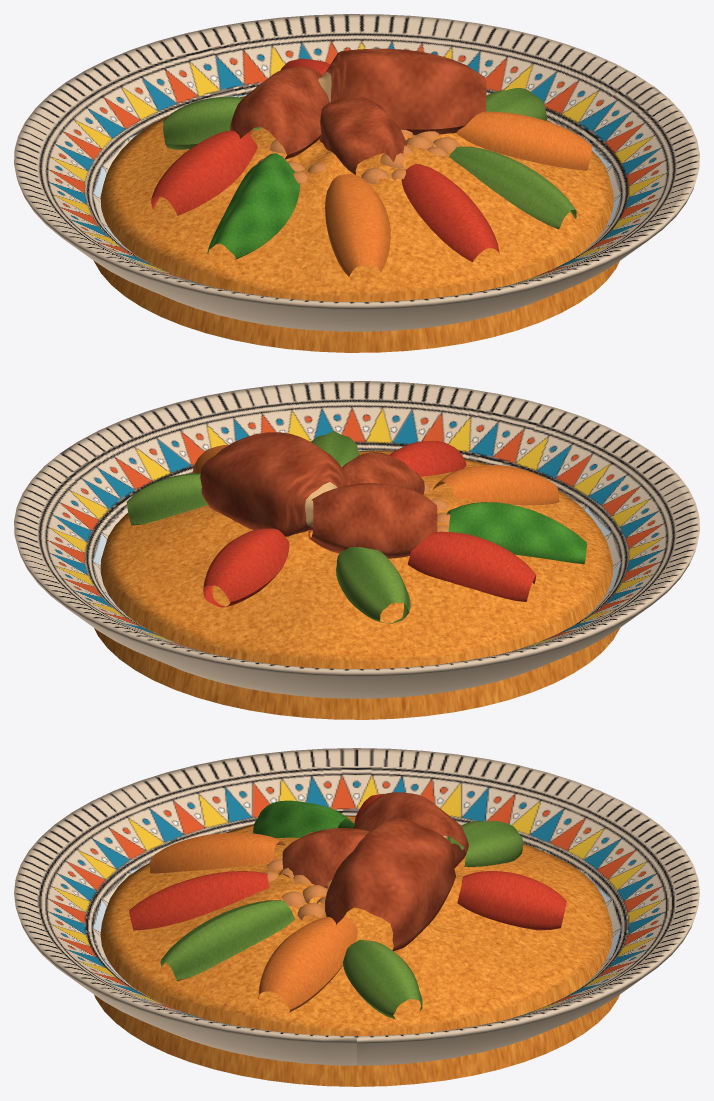
File: Tunisian_Couscous_All_14_Parts_Separated.fbx
The picture shows the model from 3 angles, top to bottom: view 1: azimuth 30°, elevation 25°; view 2: azimuth 150°, elevation 25°; view 3: azimuth 270°, elevation 25°; orthographic projection.
Parts seen in each view (by area): view 1: 00_Plate_Tebsi_Ceramic, 01_Couscous_Semolina_Mound, 02_Meat_Lamb_Shank_Main, 13_Veg_Left_Pumpkin_and_Zucchini, 03_Meat_Braised_Left, 06_Veg_Green_Pepper_Felfel, 07_Veg_Carrot_FrontLeft, 10_Veg_Carrot_Right, 08_Veg_Pumpkin_Red_Front, 04_Meat_Braised_Front, 09_Veg_Zucchini_FrontRight, 05_Chickpeas_Cluster (+1 smaller); view 2: 00_Plate_Tebsi_Ceramic, 01_Couscous_Semolina_Mound, 02_Meat_Lamb_Shank_Main, 13_Veg_Left_Pumpkin_and_Zucchini, 03_Meat_Braised_Left, 06_Veg_Green_Pepper_Felfel, 12_Veg_Carrot_TopRight, 07_Veg_Carrot_FrontLeft, 11_Veg_Zucchini_FarRight, 04_Meat_Braised_Front, 08_Veg_Pumpkin_Red_Front, 09_Veg_Zucchini_FrontRight; view 3: 00_Plate_Tebsi_Ceramic, 01_Couscous_Semolina_Mound, 02_Meat_Lamb_Shank_Main, 10_Veg_Carrot_Right, 09_Veg_Zucchini_FrontRight, 12_Veg_Carrot_TopRight, 08_Veg_Pumpkin_Red_Front, 07_Veg_Carrot_FrontLeft, 11_Veg_Zucchini_FarRight, 04_Meat_Braised_Front, 03_Meat_Braised_Left, 06_Veg_Green_Pepper_Felfel (+2 smaller).
Boxes of the visible parts, x1,y1,x2,y2 form: 00_Plate_Tebsi_Ceramic: (14, 14, 699, 331); 01_Couscous_Semolina_Mound: (93, 96, 619, 352); 02_Meat_Lamb_Shank_Main: (318, 48, 486, 135); 13_Veg_Left_Pumpkin_and_Zucchini: (151, 96, 262, 215); 03_Meat_Braised_Left: (230, 66, 329, 159); 06_Veg_Green_Pepper_Felfel: (207, 153, 300, 259); 07_Veg_Carrot_FrontLeft: (325, 174, 390, 276); 10_Veg_Carrot_Right: (456, 111, 592, 170); 08_Veg_Pumpkin_Red_Front: (401, 164, 499, 261); 04_Meat_Braised_Front: (319, 95, 406, 174); 09_Veg_Zucchini_FrontRight: (449, 146, 576, 229); 05_Chickpeas_Cluster: (257, 129, 459, 184); 00_Plate_Tebsi_Ceramic: (14, 381, 699, 698); 01_Couscous_Semolina_Mound: (94, 450, 620, 719); 02_Meat_Lamb_Shank_Main: (200, 432, 348, 536); 13_Veg_Left_Pumpkin_and_Zucchini: (336, 531, 536, 624); 03_Meat_Braised_Left: (308, 483, 437, 558); 06_Veg_Green_Pepper_Felfel: (446, 502, 586, 564); 12_Veg_Carrot_TopRight: (203, 528, 289, 607); 07_Veg_Carrot_FrontLeft: (432, 465, 558, 505); 11_Veg_Zucchini_FarRight: (126, 473, 207, 525); 04_Meat_Braised_Front: (342, 452, 424, 494); 08_Veg_Pumpkin_Red_Front: (389, 441, 466, 476); 09_Veg_Zucchini_FrontRight: (311, 430, 359, 466); 00_Plate_Tebsi_Ceramic: (14, 748, 699, 1065); 01_Couscous_Semolina_Mound: (94, 815, 619, 1086); 02_Meat_Lamb_Shank_Main: (325, 816, 455, 951); 10_Veg_Carrot_Right: (258, 916, 357, 1012); 09_Veg_Zucchini_FrontRight: (160, 900, 294, 980); 12_Veg_Carrot_TopRight: (457, 871, 566, 930); 08_Veg_Pumpkin_Red_Front: (129, 871, 269, 930); 07_Veg_Carrot_FrontLeft: (150, 832, 285, 873); 11_Veg_Zucchini_FarRight: (342, 939, 422, 1019); 04_Meat_Braised_Front: (282, 828, 369, 887); 03_Meat_Braised_Left: (353, 792, 468, 868); 06_Veg_Green_Pepper_Felfel: (253, 800, 354, 837).
Bounding box in the file's own units: 32 × 9.49 × 32.
